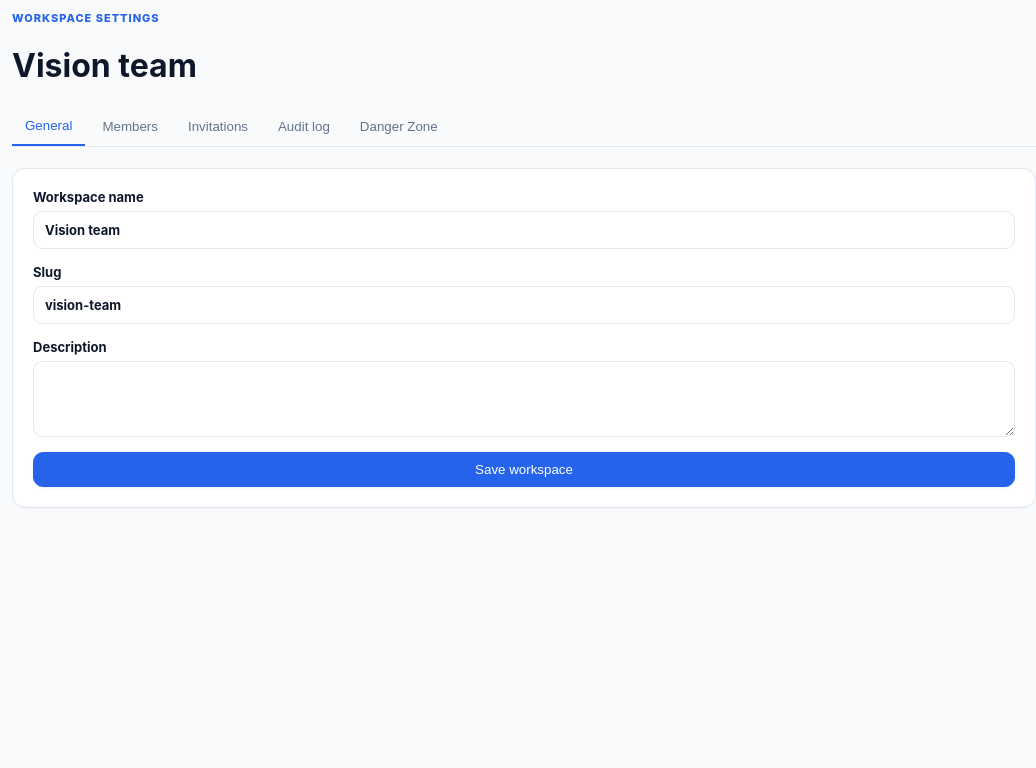
Test: settings save allowlisted fields
Replace the text in the field labelled "Workspace name" with "Updated Team" at (524, 230), box top-left (33, 211), bottom-right (1015, 249)
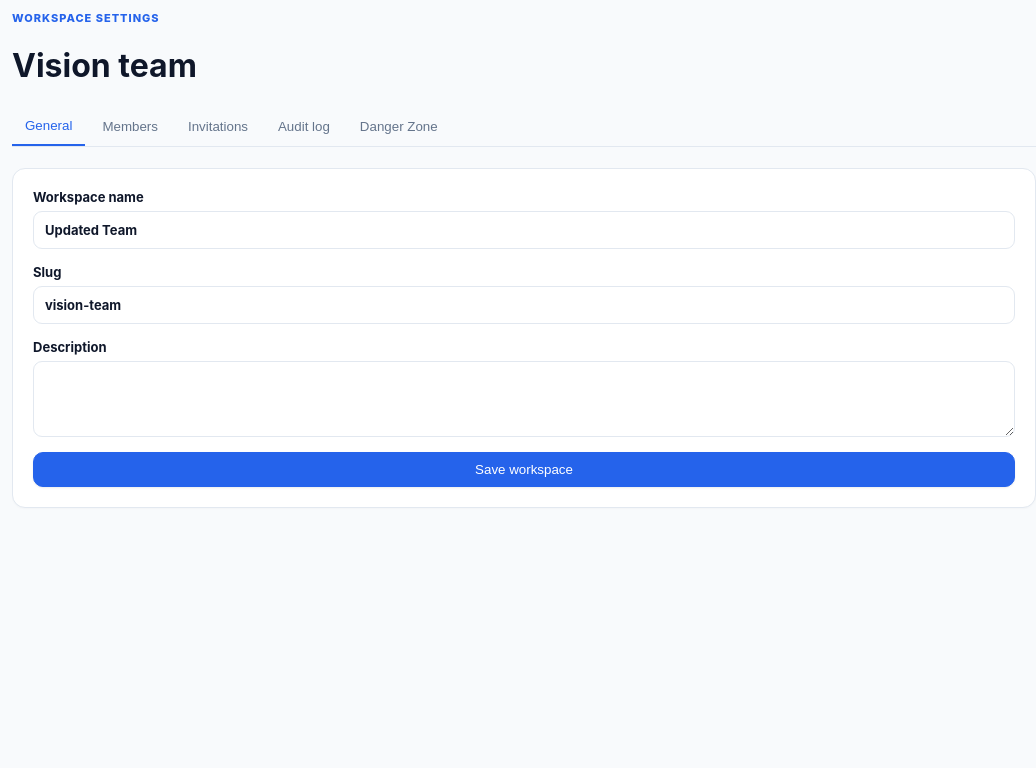
Click the button "Save workspace" at (524, 469), box top-left (33, 452), bottom-right (1015, 487)
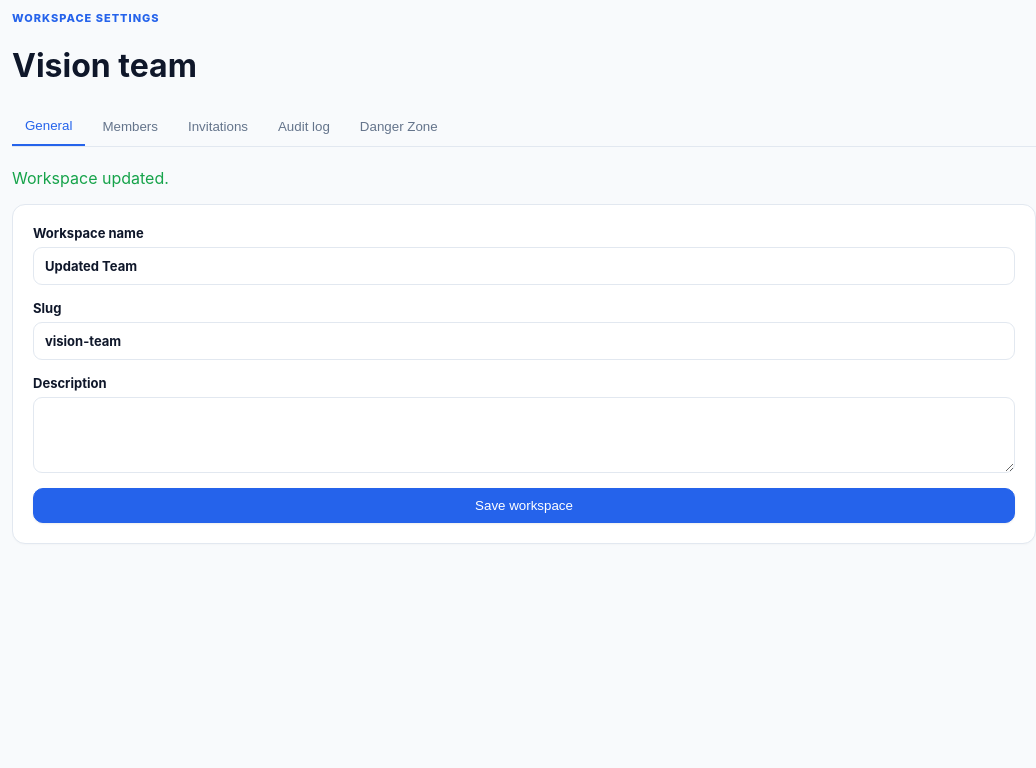
Result: the text "Workspace updated." is shown at top-left (12, 168), bottom-right (169, 188)
